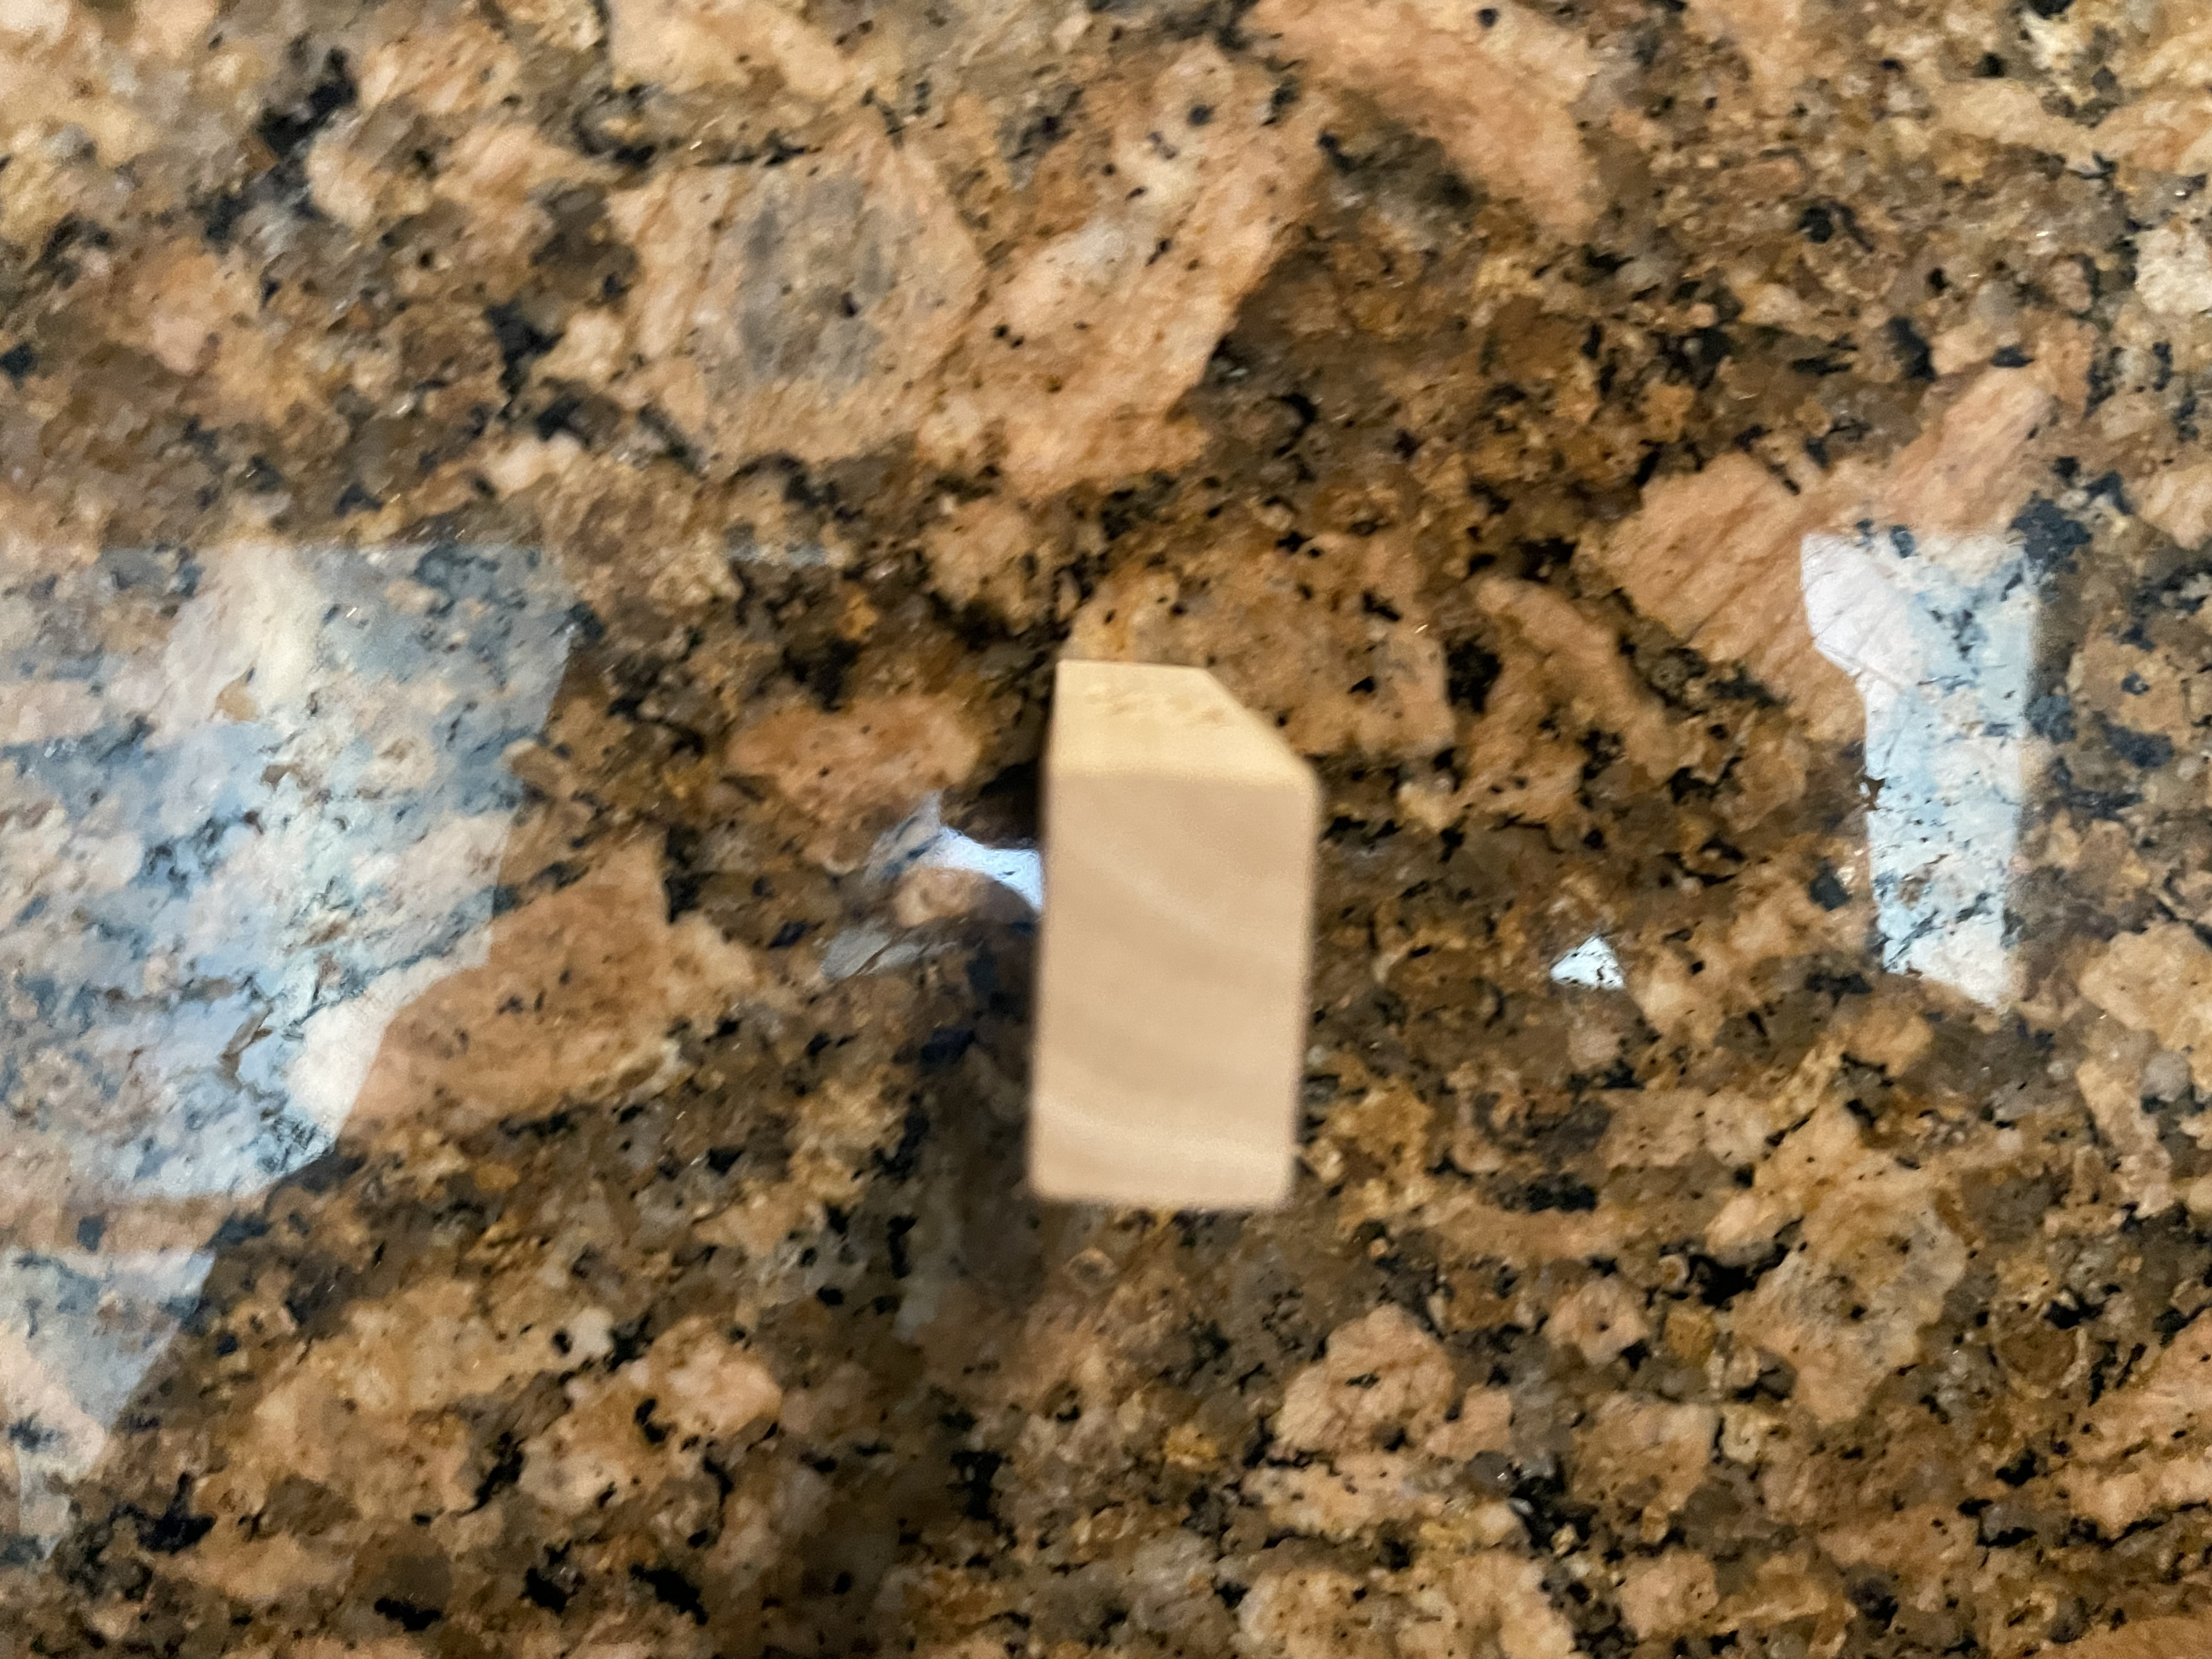jenga: (1035, 647, 1317, 1227)
